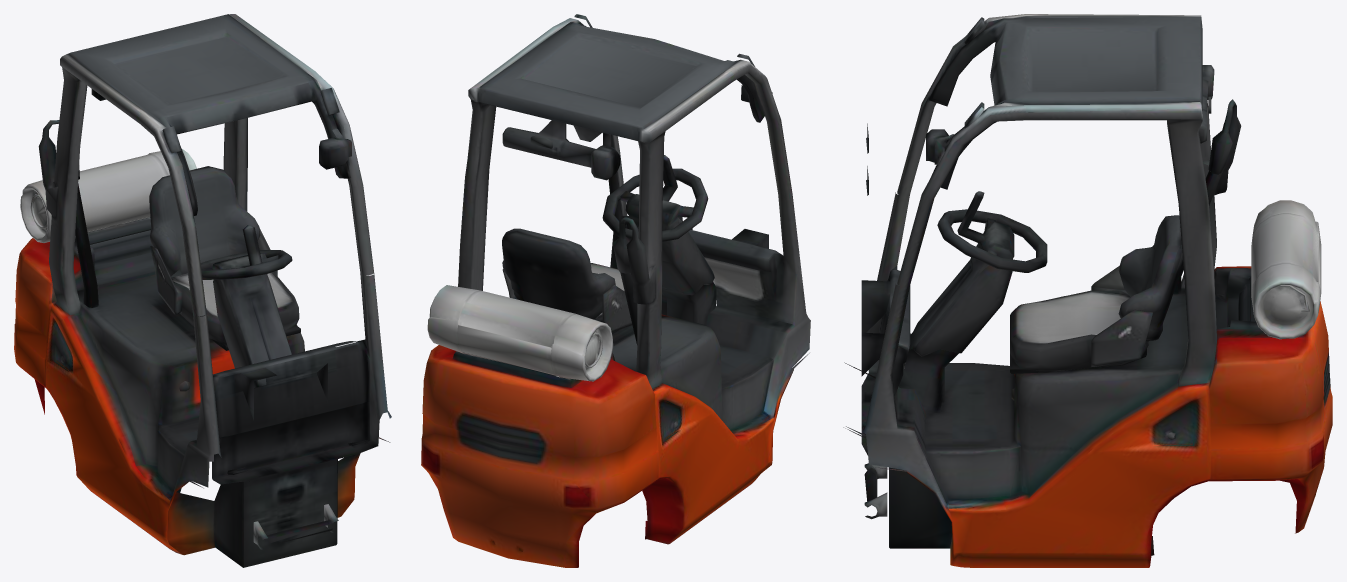
3 renders of one model, left to right at view 1: azimuth 30°, elevation 25°; view 2: azimuth 150°, elevation 25°; view 3: azimuth 270°, elevation 25°, orthographic. The views are drawn at different scales.
Parts seen in each view (by area): view 1: tripo_node_1daa2a4c-a588-444d-9157-e9f3abaf61e7, roof, steer; view 2: tripo_node_1daa2a4c-a588-444d-9157-e9f3abaf61e7, roof, steer; view 3: tripo_node_1daa2a4c-a588-444d-9157-e9f3abaf61e7, roof, steer.
Part boxes in pixels (<box>): tripo_node_1daa2a4c-a588-444d-9157-e9f3abaf61e7: <box>14,118,391,567</box>; roof: <box>42,14,362,228</box>; steer: <box>200,250,292,296</box>; tripo_node_1daa2a4c-a588-444d-9157-e9f3abaf61e7: <box>421,86,810,567</box>; roof: <box>465,14,780,240</box>; steer: <box>602,168,708,242</box>; tripo_node_1daa2a4c-a588-444d-9157-e9f3abaf61e7: <box>843,104,1332,567</box>; roof: <box>866,14,1236,202</box>; steer: <box>937,209,1047,272</box>.
Bounding box in the file's own units: 1.14 × 2.26 × 2.17.
Materials: 1 (1 with a texture image).
